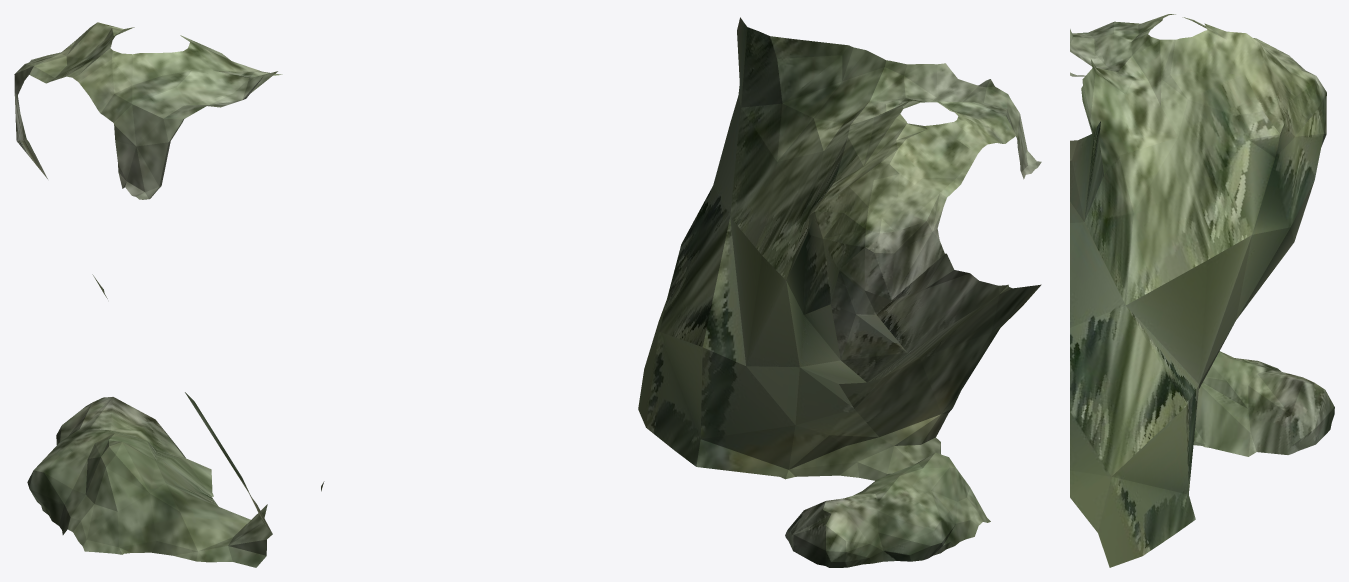
3 views of the same model, side by side, from view 1: azimuth 30°, elevation 25°; view 2: azimuth 150°, elevation 25°; view 3: azimuth 270°, elevation 25° (orthographic). The views are drawn at different scales.
Size of the model in its own units: 2.95 by 2.95 by 1.83.
4 materials, 4 textured.
